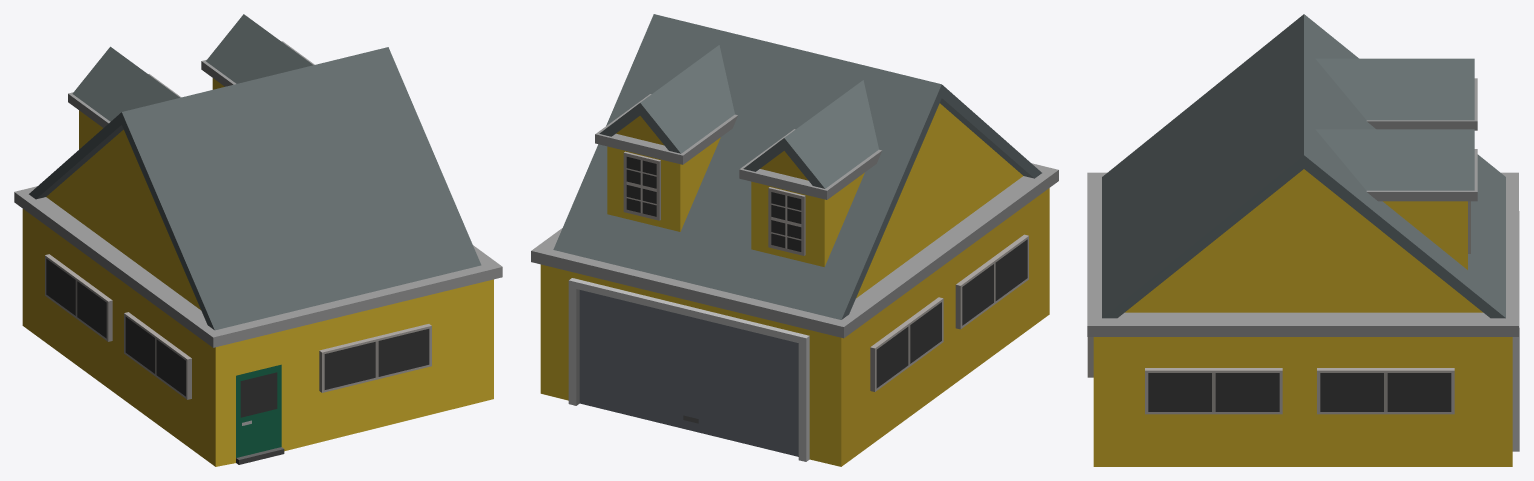
Rendered from casita.obj.
The picture shows the model from 3 angles, left to right: view 1: azimuth 30°, elevation 25°; view 2: azimuth 150°, elevation 25°; view 3: azimuth 270°, elevation 25°; orthographic projection. The views are drawn at different scales.
Parts seen in each view (by area): view 1: Building_Garage_01; view 2: Building_Garage_01; view 3: Building_Garage_01.
Part boxes in pixels (x1,y1,x2,y2): Building_Garage_01: (14,14,502,466); Building_Garage_01: (531,14,1058,466); Building_Garage_01: (1087,14,1519,466).
Bounding box in the file's own units: 12.37 × 11.61 × 14.74.
